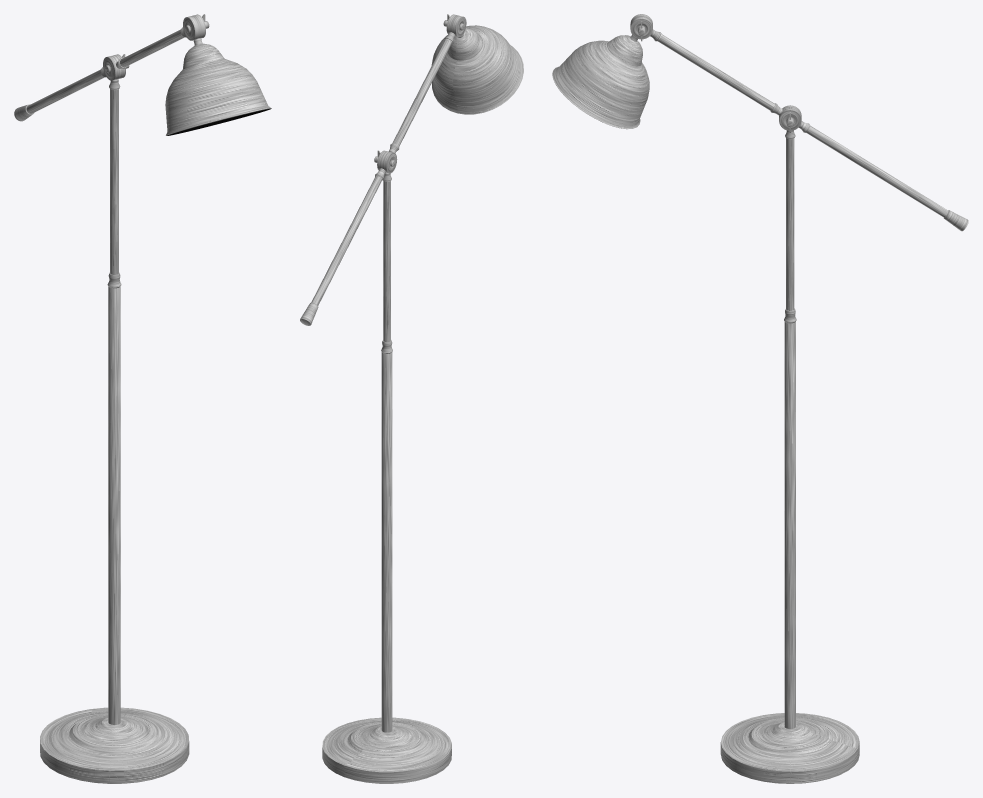
File: geo_lamp_LeverArm.fbx
The picture shows the model from 3 angles, left to right: view 1: azimuth 30°, elevation 25°; view 2: azimuth 150°, elevation 25°; view 3: azimuth 270°, elevation 25°; orthographic projection. The views are drawn at different scales.
Parts seen in each view (by area): view 1: geo_lamp_LeverArm_LOD0; view 2: geo_lamp_LeverArm_LOD0; view 3: geo_lamp_LeverArm_LOD0.
Boxes of the visible parts, x1,y1,x2,y2 form: geo_lamp_LeverArm_LOD0: (14,14,271,783); geo_lamp_LeverArm_LOD0: (300,14,523,783); geo_lamp_LeverArm_LOD0: (552,14,968,783).
Bounding box in the file's own units: 0.2803 × 1.64 × 0.8401.
Materials: 1 (1 with a texture image).
